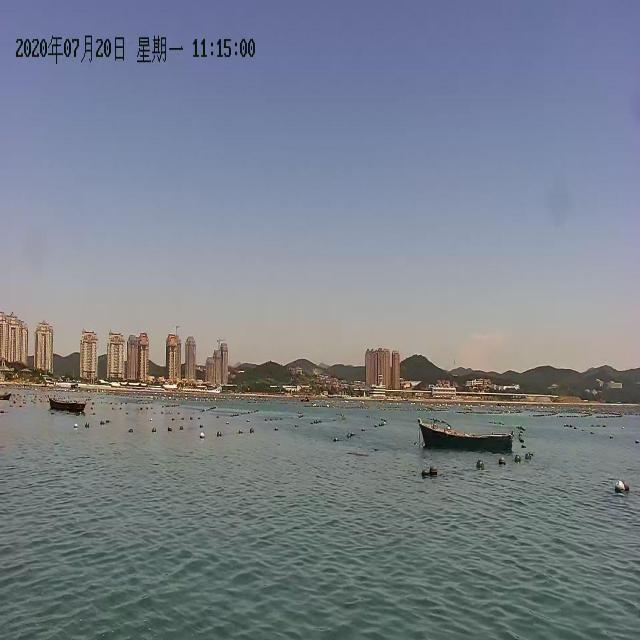CIV_Ship: (416, 412, 518, 457), (45, 392, 85, 414)
